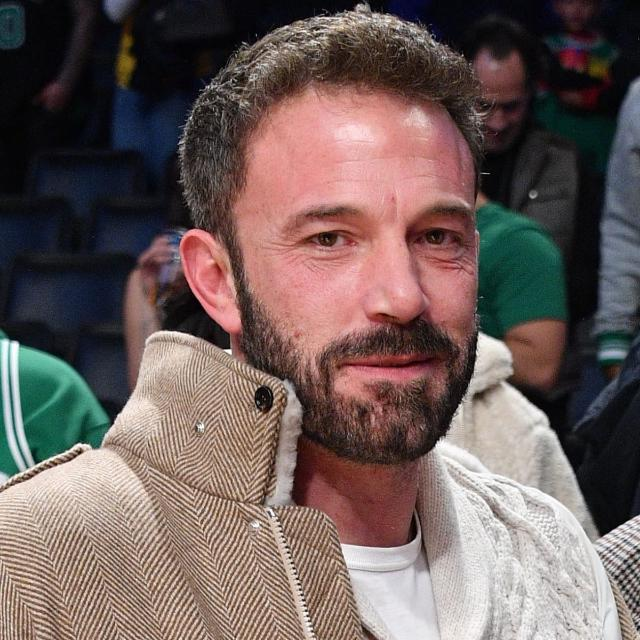crows_feet: (266, 230, 298, 262)
forehead: (404, 160, 446, 187)
frown_line: (386, 188, 404, 228)
